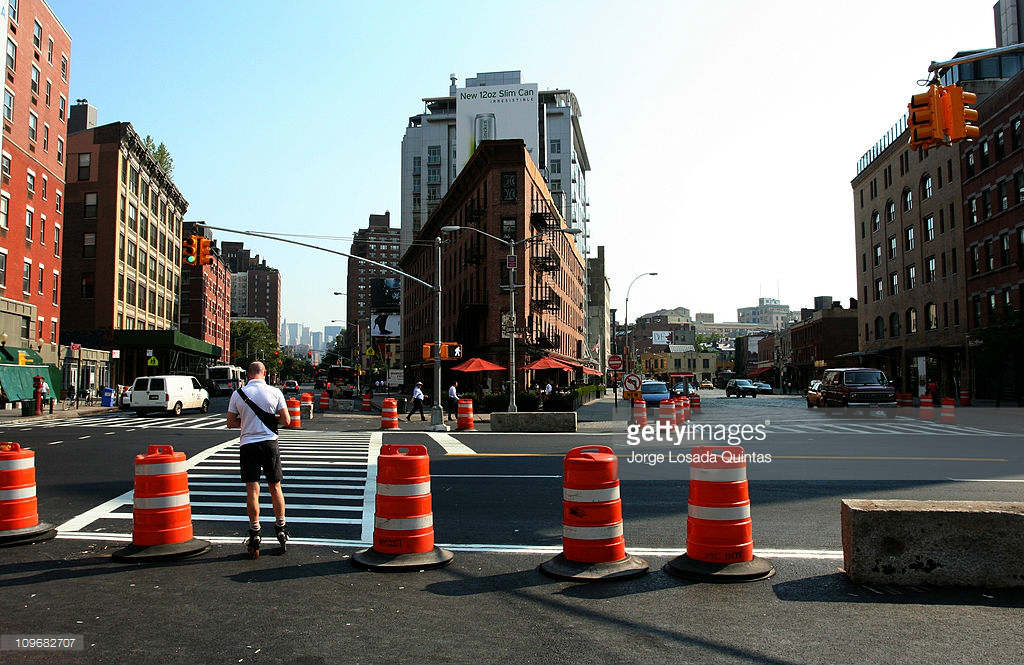trafficcone: (541, 443, 651, 582), (663, 447, 774, 584), (351, 445, 456, 569), (112, 443, 214, 563)
